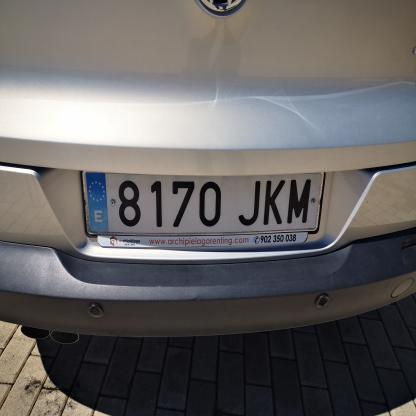patente: (81, 171, 324, 234)
